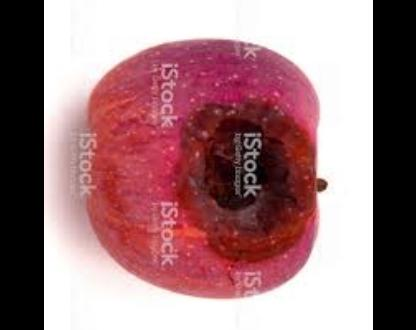defect: (132, 103, 354, 261)
